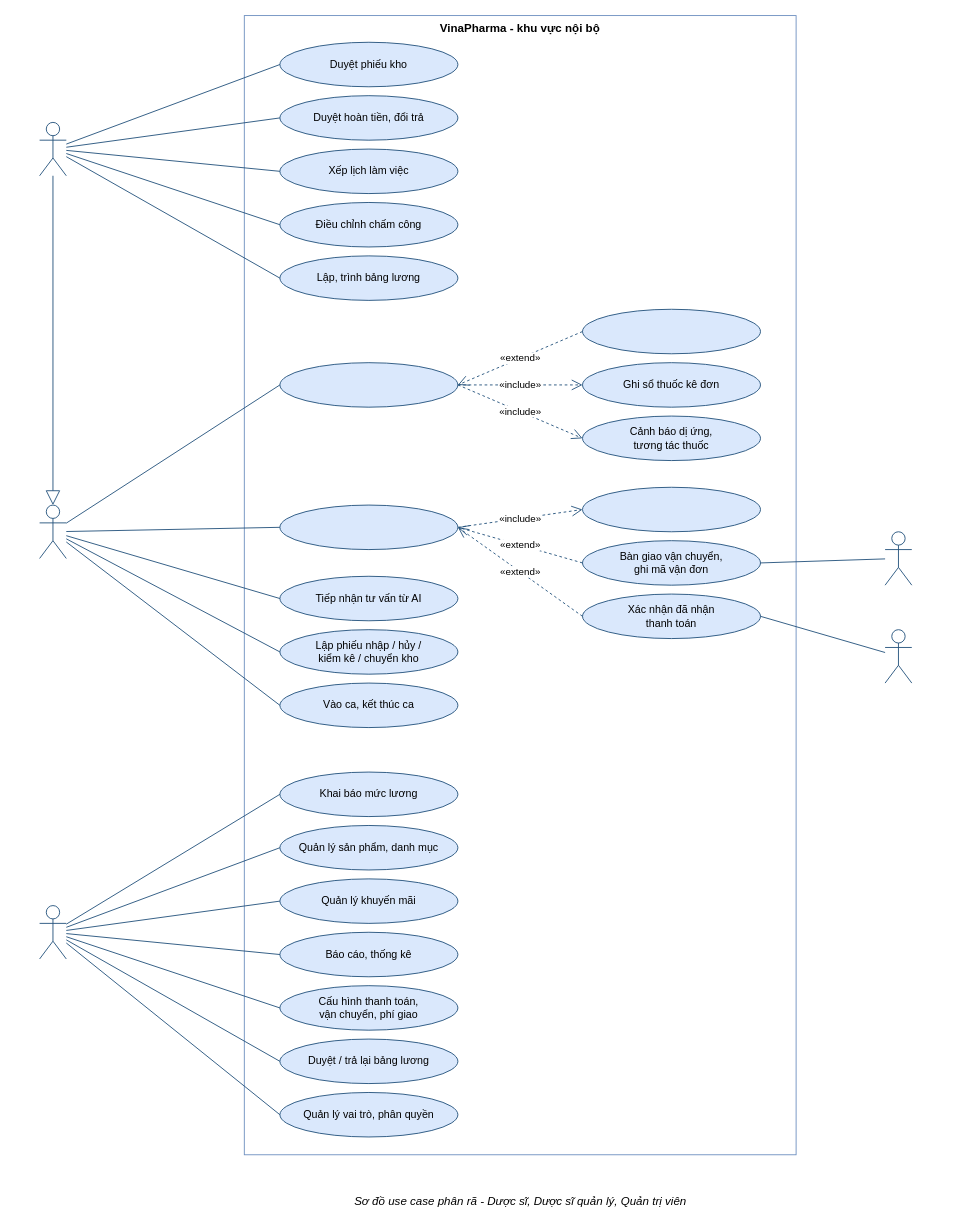
The diagram is 959 pixels wide and 1227 high, and some of its shapes have lost their labels. The shapes that lost their labels are listed below. From the top down, each one's box as (x1, y1, x2, y2) in pixels, then its label:
(39, 121, 66, 176): Dược sĩ quản lý
(582, 308, 761, 354): Đề xuất thuốc thay thế
(279, 362, 458, 407): Duyệt đơn thuốc
(279, 504, 458, 550): Xử lý đơn hàng
(582, 486, 761, 532): Xuất kho theo FEFO
(39, 504, 66, 558): Dược sĩ
(884, 531, 912, 585): «bên ngoài» Đơn vị vận chuyển
(884, 629, 912, 683): «hệ thống ngoài» Cổng thanh toán
(39, 905, 66, 959): Quản trị viên
